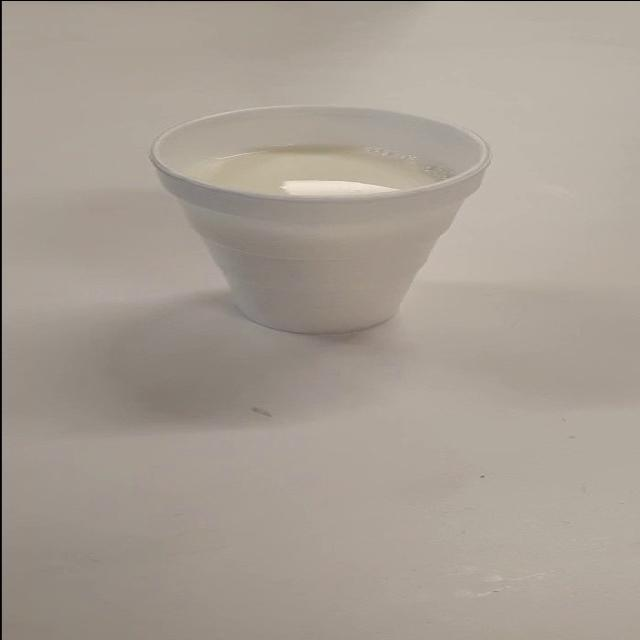Milk: (159, 86, 546, 351)
